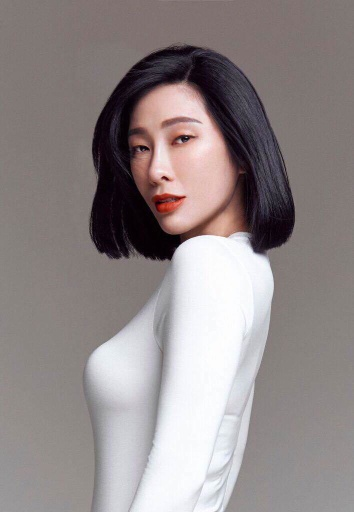female: (81, 40, 303, 256)
